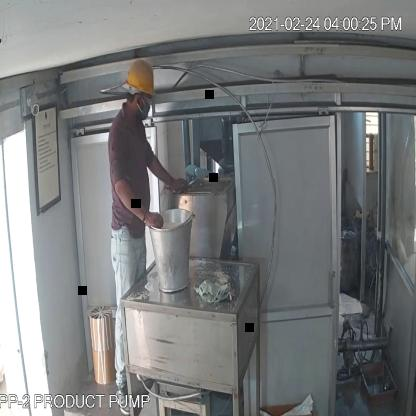helmet: (123, 57, 158, 102)
